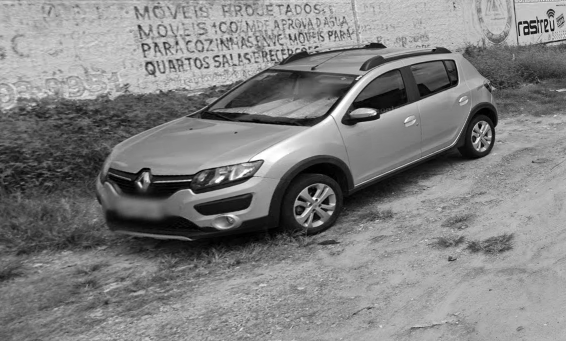car: (90, 37, 502, 251)
